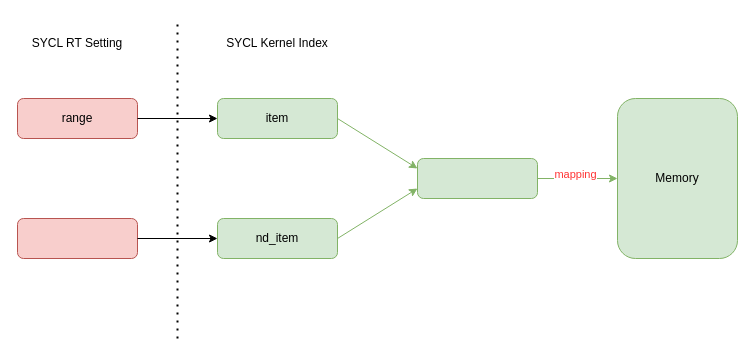
Image size: 755x357. Some labels were removed from this diagram. The shapes that lost their labels are listed below. From the top down, each one's centre as x and y in pixels, then its label:
At pixel 477 178: "id".
At pixel 77 238: "nd_range".
